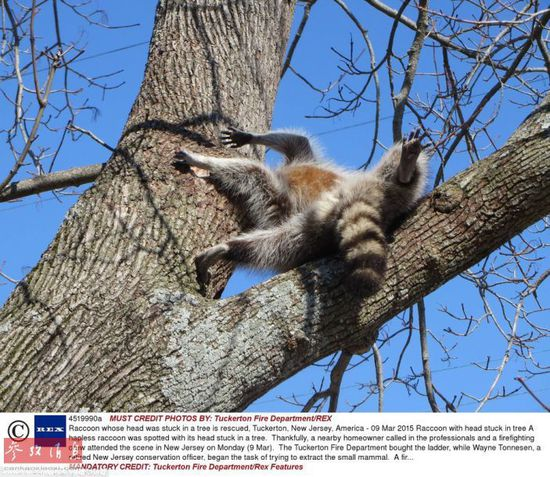raccoon: (169, 117, 445, 307)
